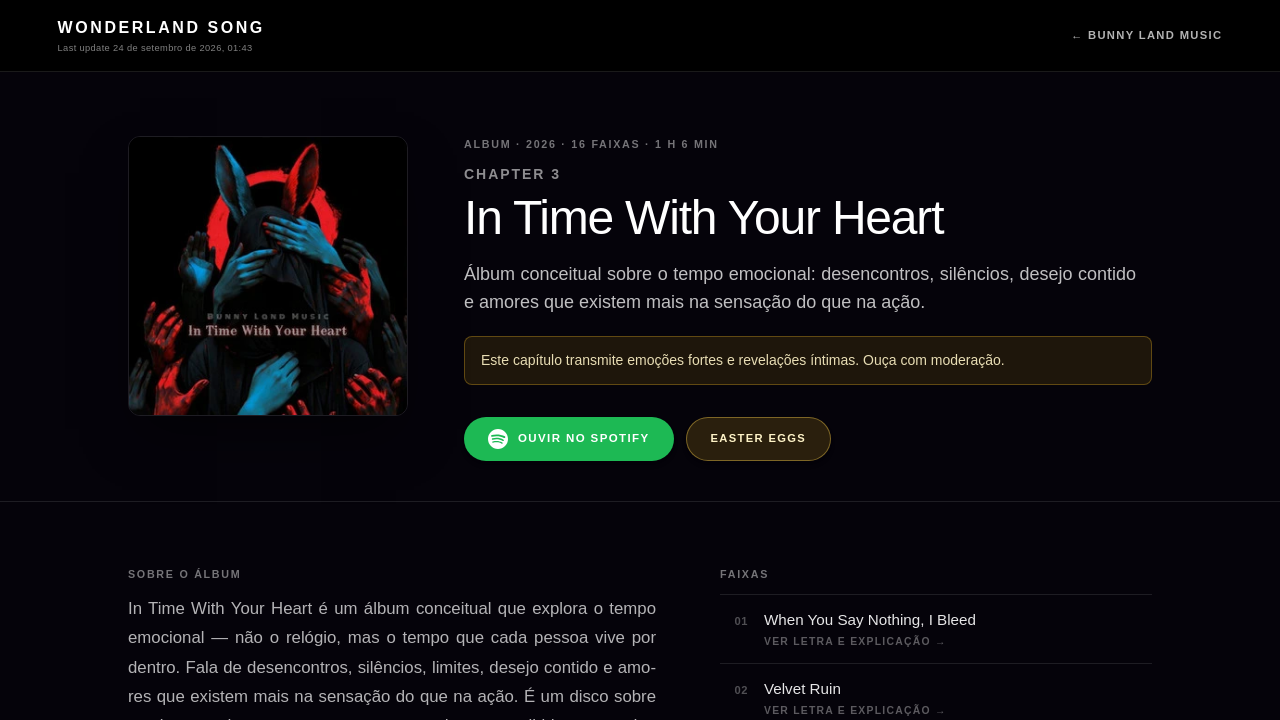
Scenario: App › opens Easter Eggs modal with revelations map on Chapter 3
Click the button "Easter Eggs" at (758, 439), box x1=686 y1=417 x2=831 y2=461
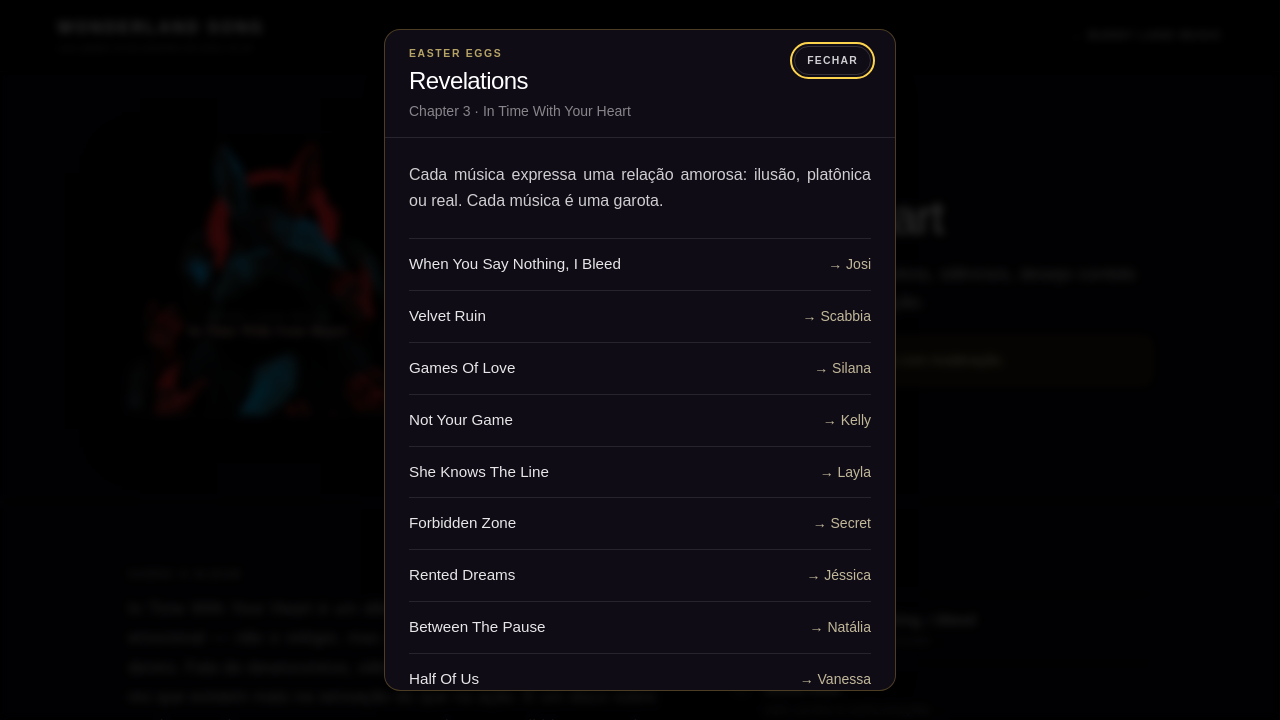
Expected: the dialog "Revelations" is shown
Expected: the text "Cada música expressa uma relação amorosa" is shown, x1=409 y1=166 x2=871 y2=209
Expected: the text "→ Scabbia" is shown, x1=802 y1=306 x2=871 y2=326
